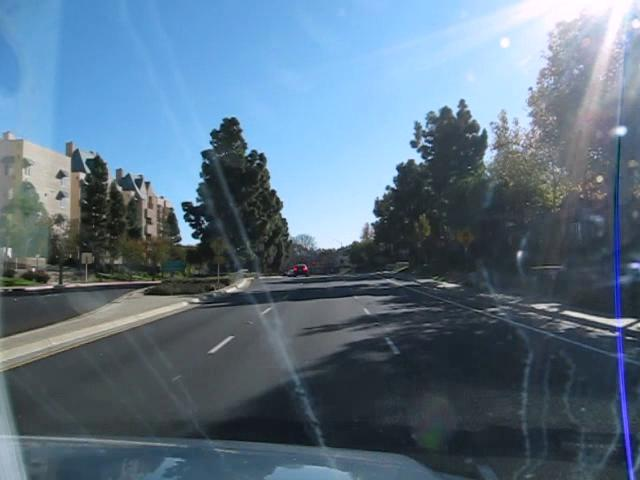signalAhead: (208, 232, 231, 256)
